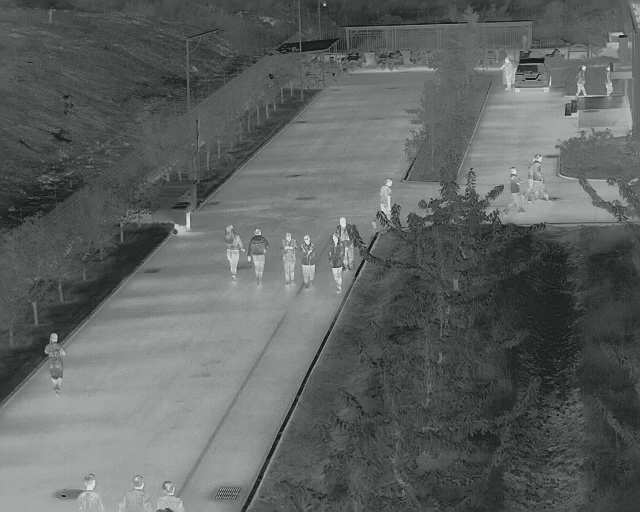person: (41, 330, 66, 399), (115, 472, 154, 512), (222, 223, 246, 285), (246, 225, 270, 287), (75, 469, 107, 510), (298, 233, 318, 293), (326, 229, 344, 295), (530, 153, 553, 204), (279, 228, 298, 289), (503, 164, 524, 216), (572, 63, 589, 98), (377, 177, 393, 211), (500, 55, 512, 92)
vehicle: (514, 57, 554, 94)
